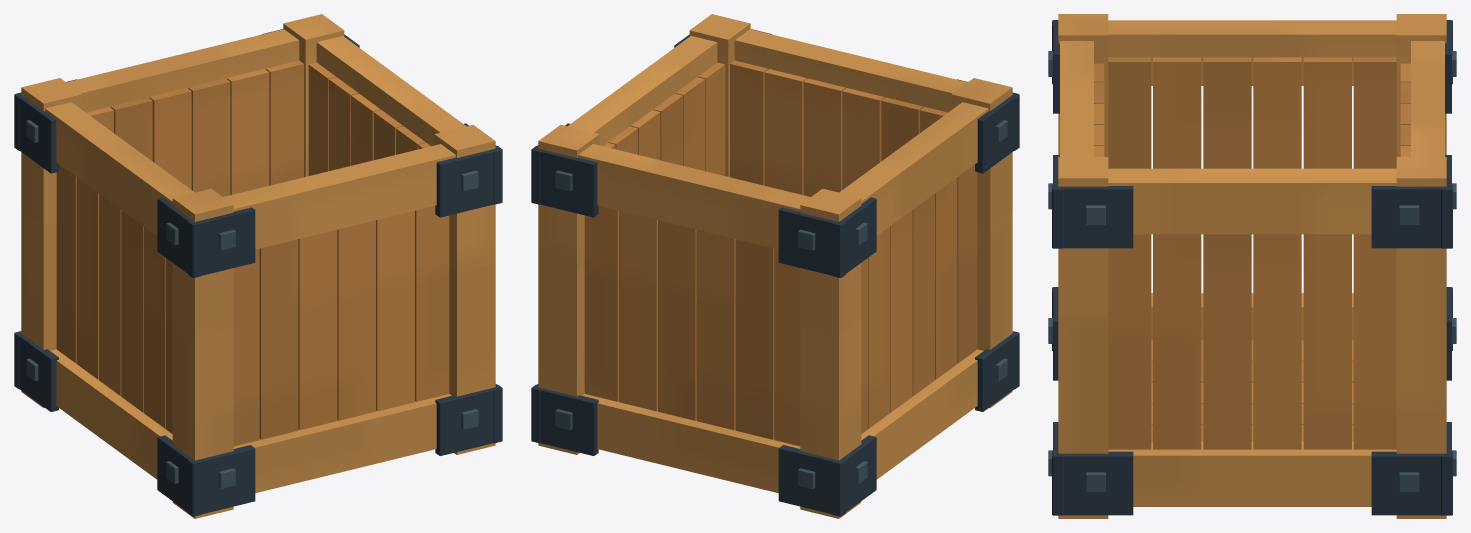
The model's file is SM_VMF_Prop_StackableCrate.fbx.
The picture shows the model from 3 angles, left to right: view 1: azimuth 30°, elevation 25°; view 2: azimuth 150°, elevation 25°; view 3: azimuth 270°, elevation 25°; orthographic projection. The views are drawn at different scales.
Visible parts, largest first — view 1: SM_VMF_Prop_StackableCrate_FloorAndVerticalPlanks, SM_VMF_Prop_StackableCrate_UpperLowerRails, SM_VMF_Prop_StackableCrate_CornerPosts, SM_VMF_Prop_StackableCrate_CornerBrackets, SM_VMF_Prop_StackableCrate_Rivets; view 2: SM_VMF_Prop_StackableCrate_FloorAndVerticalPlanks, SM_VMF_Prop_StackableCrate_UpperLowerRails, SM_VMF_Prop_StackableCrate_CornerPosts, SM_VMF_Prop_StackableCrate_CornerBrackets, SM_VMF_Prop_StackableCrate_Rivets; view 3: SM_VMF_Prop_StackableCrate_FloorAndVerticalPlanks, SM_VMF_Prop_StackableCrate_UpperLowerRails, SM_VMF_Prop_StackableCrate_CornerPosts, SM_VMF_Prop_StackableCrate_CornerBrackets, SM_VMF_Prop_StackableCrate_Rivets.
Part boxes in pixels (x1=…): SM_VMF_Prop_StackableCrate_FloorAndVerticalPlanks: x1=56, y1=60, x2=449, y2=446; SM_VMF_Prop_StackableCrate_UpperLowerRails: x1=45, y1=29, x2=465, y2=493; SM_VMF_Prop_StackableCrate_CornerPosts: x1=21, y1=14, x2=495, y2=518; SM_VMF_Prop_StackableCrate_CornerBrackets: x1=14, y1=29, x2=502, y2=516; SM_VMF_Prop_StackableCrate_Rivets: x1=26, y1=120, x2=478, y2=489; SM_VMF_Prop_StackableCrate_FloorAndVerticalPlanks: x1=584, y1=60, x2=977, y2=446; SM_VMF_Prop_StackableCrate_UpperLowerRails: x1=568, y1=29, x2=988, y2=493; SM_VMF_Prop_StackableCrate_CornerPosts: x1=538, y1=14, x2=1012, y2=518; SM_VMF_Prop_StackableCrate_CornerBrackets: x1=531, y1=29, x2=1019, y2=516; SM_VMF_Prop_StackableCrate_Rivets: x1=555, y1=120, x2=1007, y2=489; SM_VMF_Prop_StackableCrate_FloorAndVerticalPlanks: x1=1094, y1=57, x2=1410, y2=449; SM_VMF_Prop_StackableCrate_UpperLowerRails: x1=1060, y1=20, x2=1444, y2=506; SM_VMF_Prop_StackableCrate_CornerPosts: x1=1058, y1=14, x2=1446, y2=518; SM_VMF_Prop_StackableCrate_CornerBrackets: x1=1052, y1=20, x2=1452, y2=515; SM_VMF_Prop_StackableCrate_Rivets: x1=1048, y1=51, x2=1456, y2=492.
Size of the model in its own units: 65.2 by 60 by 65.2.
1 material, 1 textured.
